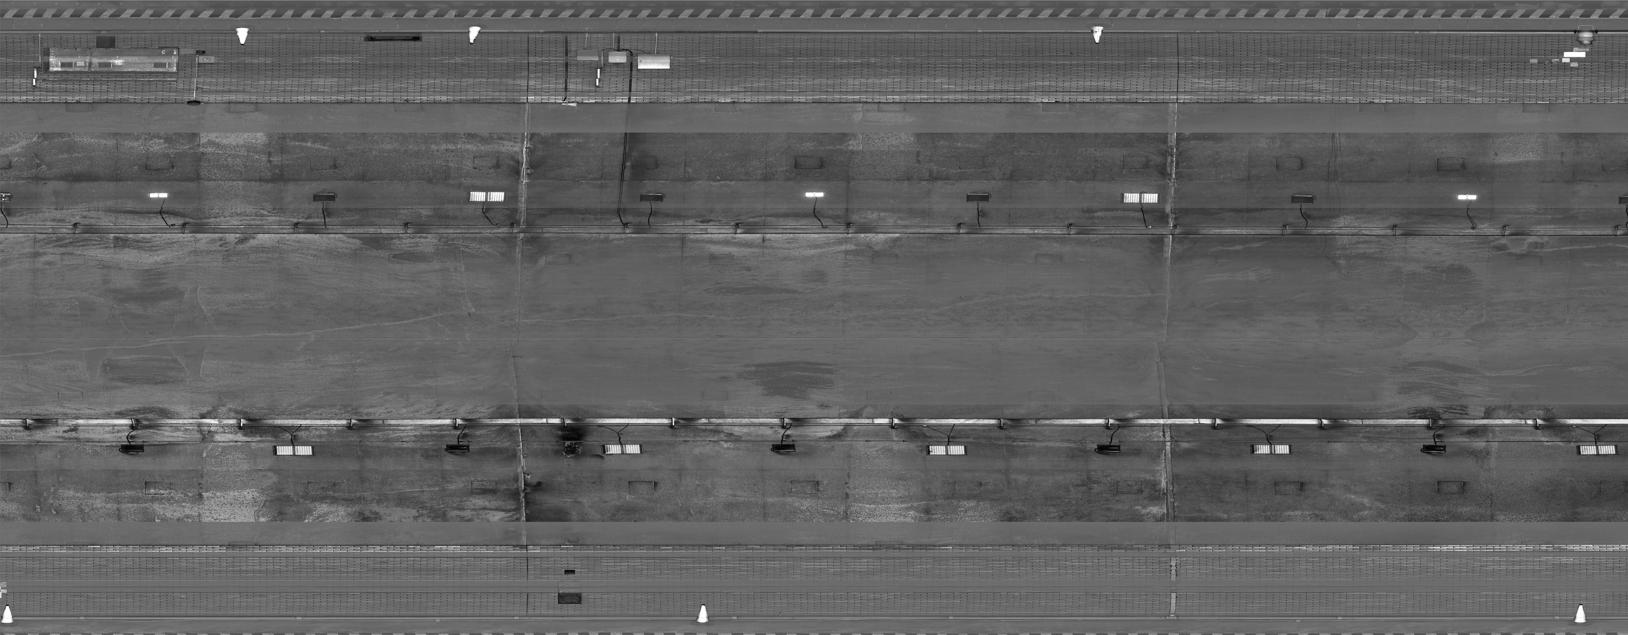light: (924, 439, 976, 461), (1117, 188, 1169, 210), (1244, 440, 1296, 462), (1569, 440, 1621, 462), (459, 189, 513, 206), (265, 442, 319, 459), (597, 440, 651, 457), (801, 188, 826, 201), (1454, 192, 1480, 205), (145, 190, 170, 199)
